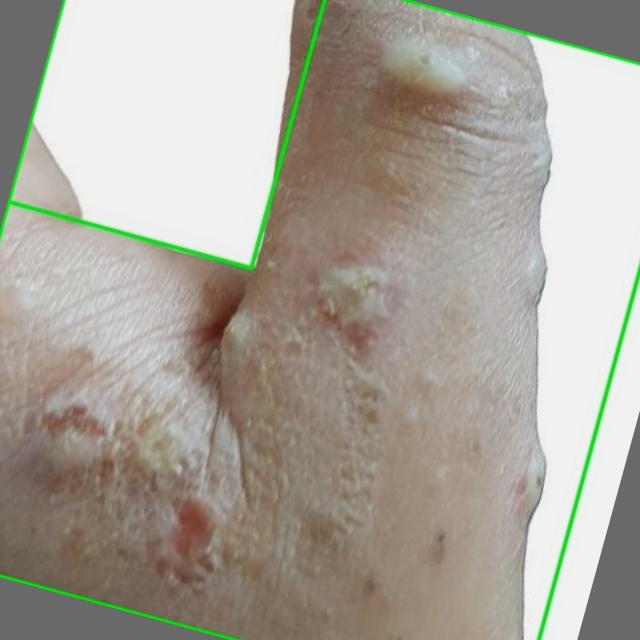Scabies: (0, 0, 639, 639), (8, 0, 325, 269)
